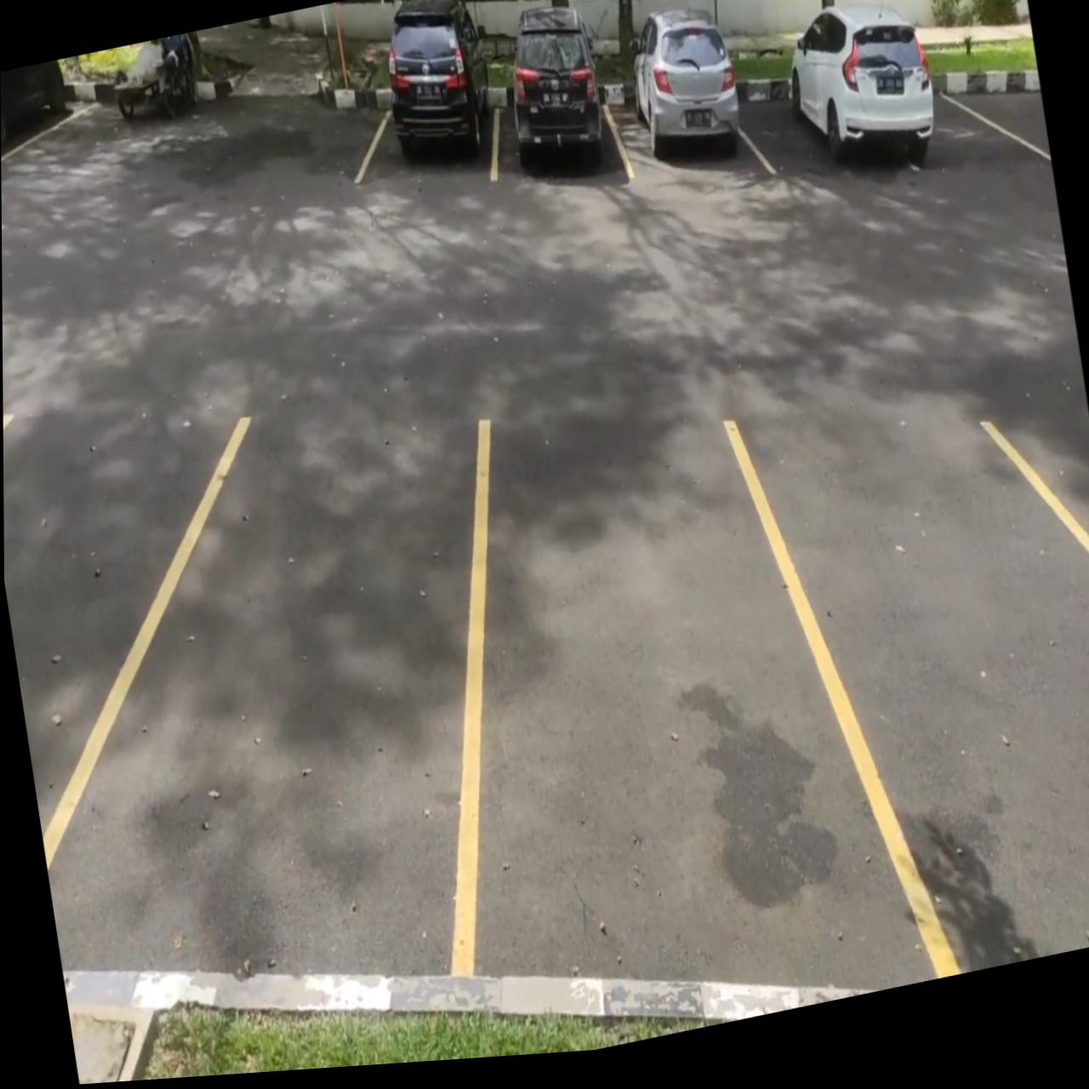cars: (605, 99, 772, 173), (357, 110, 497, 179), (494, 106, 630, 176)
empty: (461, 430, 944, 969), (47, 431, 485, 965), (734, 427, 1089, 968)
